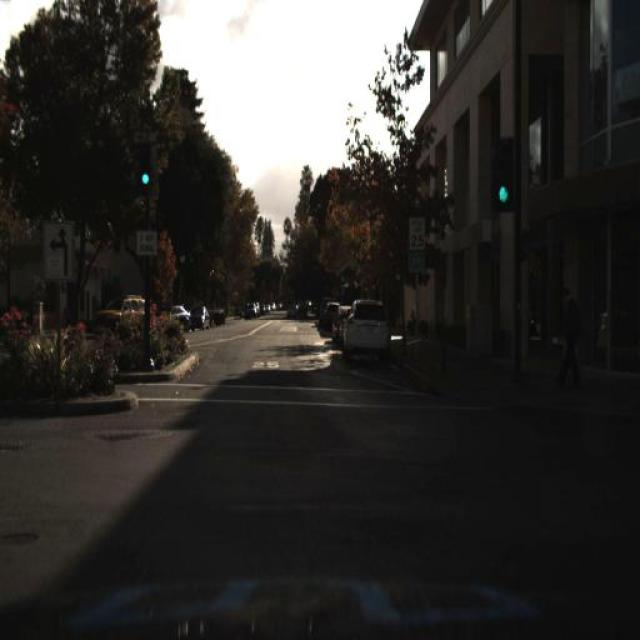car: (94, 286, 154, 338), (341, 302, 392, 358), (166, 300, 192, 330), (190, 304, 209, 332)
trafficLight: (557, 286, 582, 392)
trafficLight-GreenLeft: (139, 146, 150, 193)
